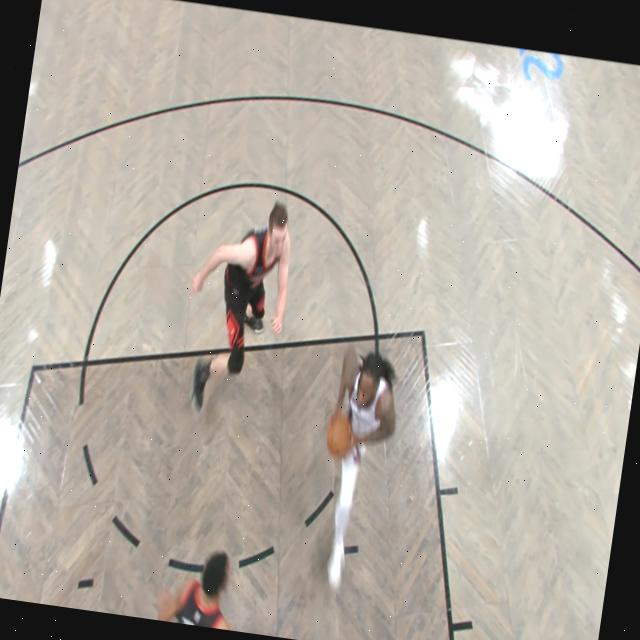no foul: (138, 148, 466, 578)
